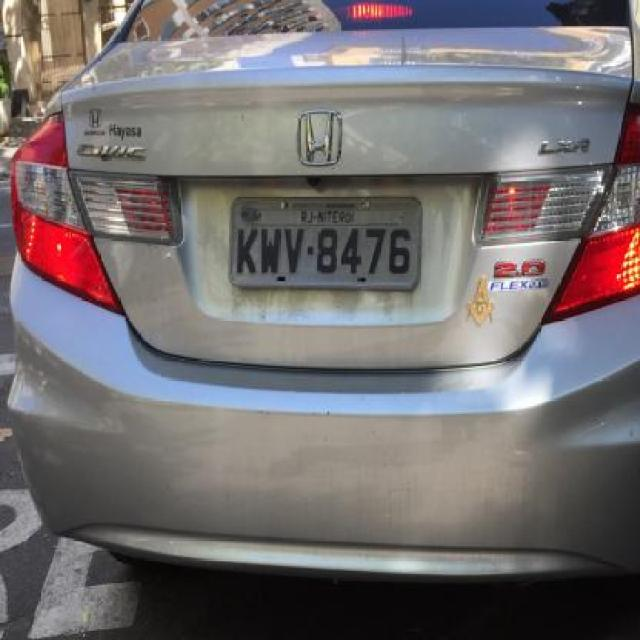old_plate: (220, 189, 430, 293)
